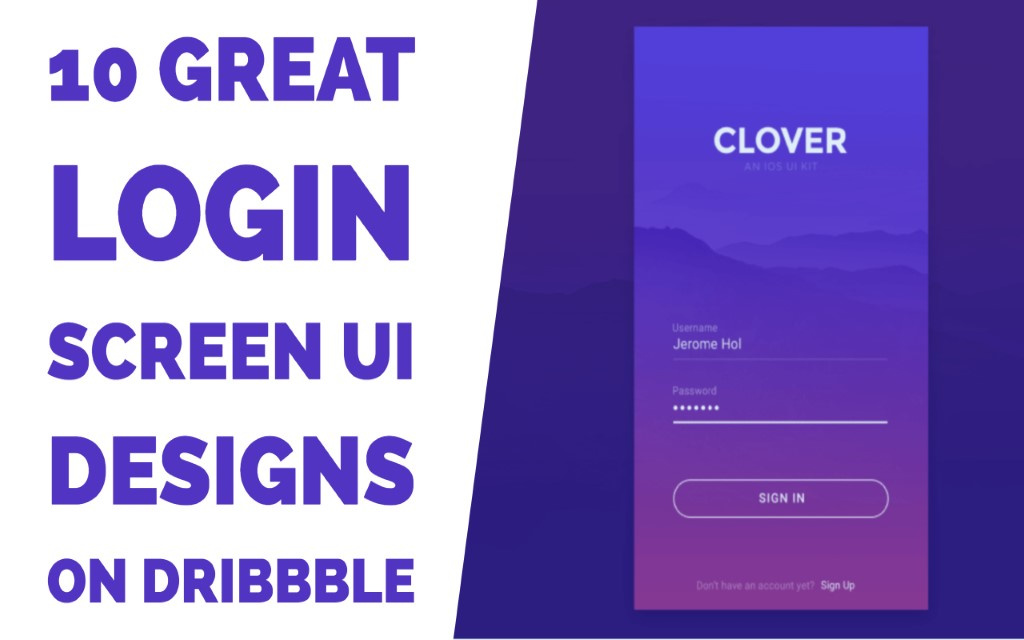button: (673, 479, 888, 518)
button_SignIn: (673, 479, 888, 518)
label_SignIn: (754, 489, 813, 508)
label_Username: (672, 320, 722, 333)
label_password: (669, 381, 722, 399)
textbox: (674, 331, 885, 360), (673, 398, 885, 421)
